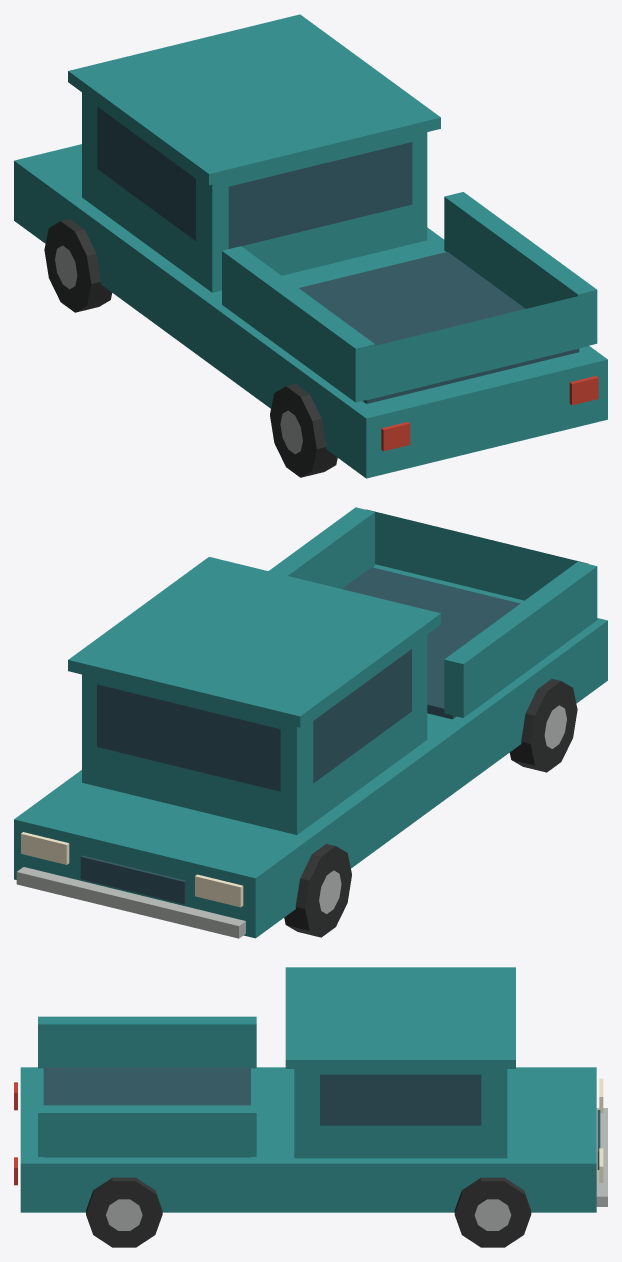
File: pickup.glb
The picture shows the model from 3 angles, top to bottom: view 1: azimuth 30°, elevation 25°; view 2: azimuth 150°, elevation 25°; view 3: azimuth 270°, elevation 25°; orthographic projection. The views are drawn at different scales.
Parts seen in each view (by area): view 1: PickupModel traffic_teal, PickupModel traffic_glass, PickupModel traffic_rubber, PickupModel traffic_red, PickupModel traffic_metal; view 2: PickupModel traffic_teal, PickupModel traffic_glass, PickupModel traffic_rubber, PickupModel traffic_metal, PickupModel traffic_light; view 3: PickupModel traffic_teal, PickupModel traffic_glass, PickupModel traffic_rubber, PickupModel traffic_metal.
Boxes of the visible parts, bbox=[...] form: PickupModel traffic_teal: bbox=[14, 14, 607, 478]; PickupModel traffic_glass: bbox=[97, 106, 579, 403]; PickupModel traffic_rubber: bbox=[44, 219, 337, 477]; PickupModel traffic_red: bbox=[381, 376, 598, 451]; PickupModel traffic_metal: bbox=[55, 245, 302, 454]; PickupModel traffic_teal: bbox=[14, 507, 607, 938]; PickupModel traffic_glass: bbox=[80, 567, 520, 904]; PickupModel traffic_rubber: bbox=[284, 679, 577, 937]; PickupModel traffic_metal: bbox=[16, 705, 566, 938]; PickupModel traffic_light: bbox=[21, 832, 243, 907]; PickupModel traffic_teal: bbox=[20, 967, 596, 1212]; PickupModel traffic_glass: bbox=[43, 1067, 600, 1169]; PickupModel traffic_rubber: bbox=[86, 1177, 531, 1247]; PickupModel traffic_metal: bbox=[106, 1108, 607, 1230].
Bounding box in the file's own units: 2.21 × 1.78 × 5.26.
